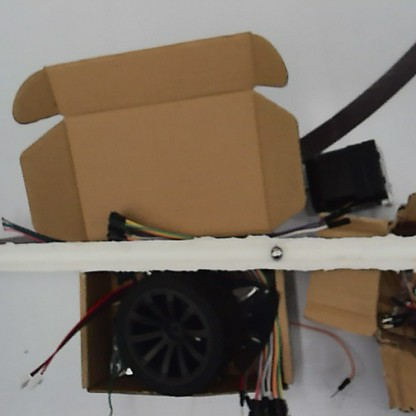ironball: (267, 244, 282, 261)
